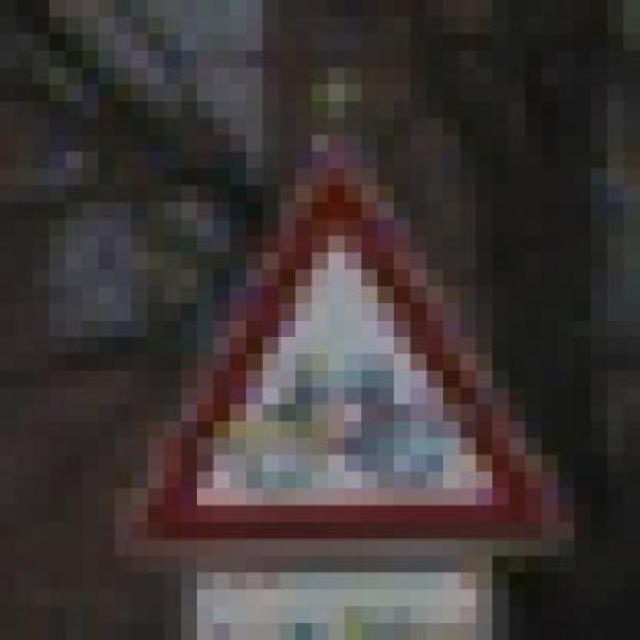CYCLE ROUTE AHEAD WARNING: (115, 135, 574, 573)
